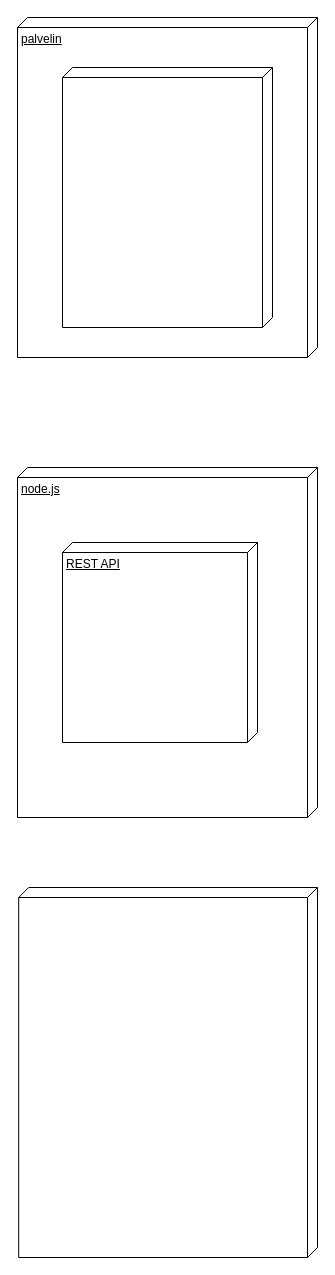
Some shapes in this 335 by 1275 pixel diagram are drawn without their labels. Each missing label, with the centre of its shape:
"Käyttöliittymä" goes at (x=168, y=1072).
"tietokanta" goes at (x=167, y=197).
